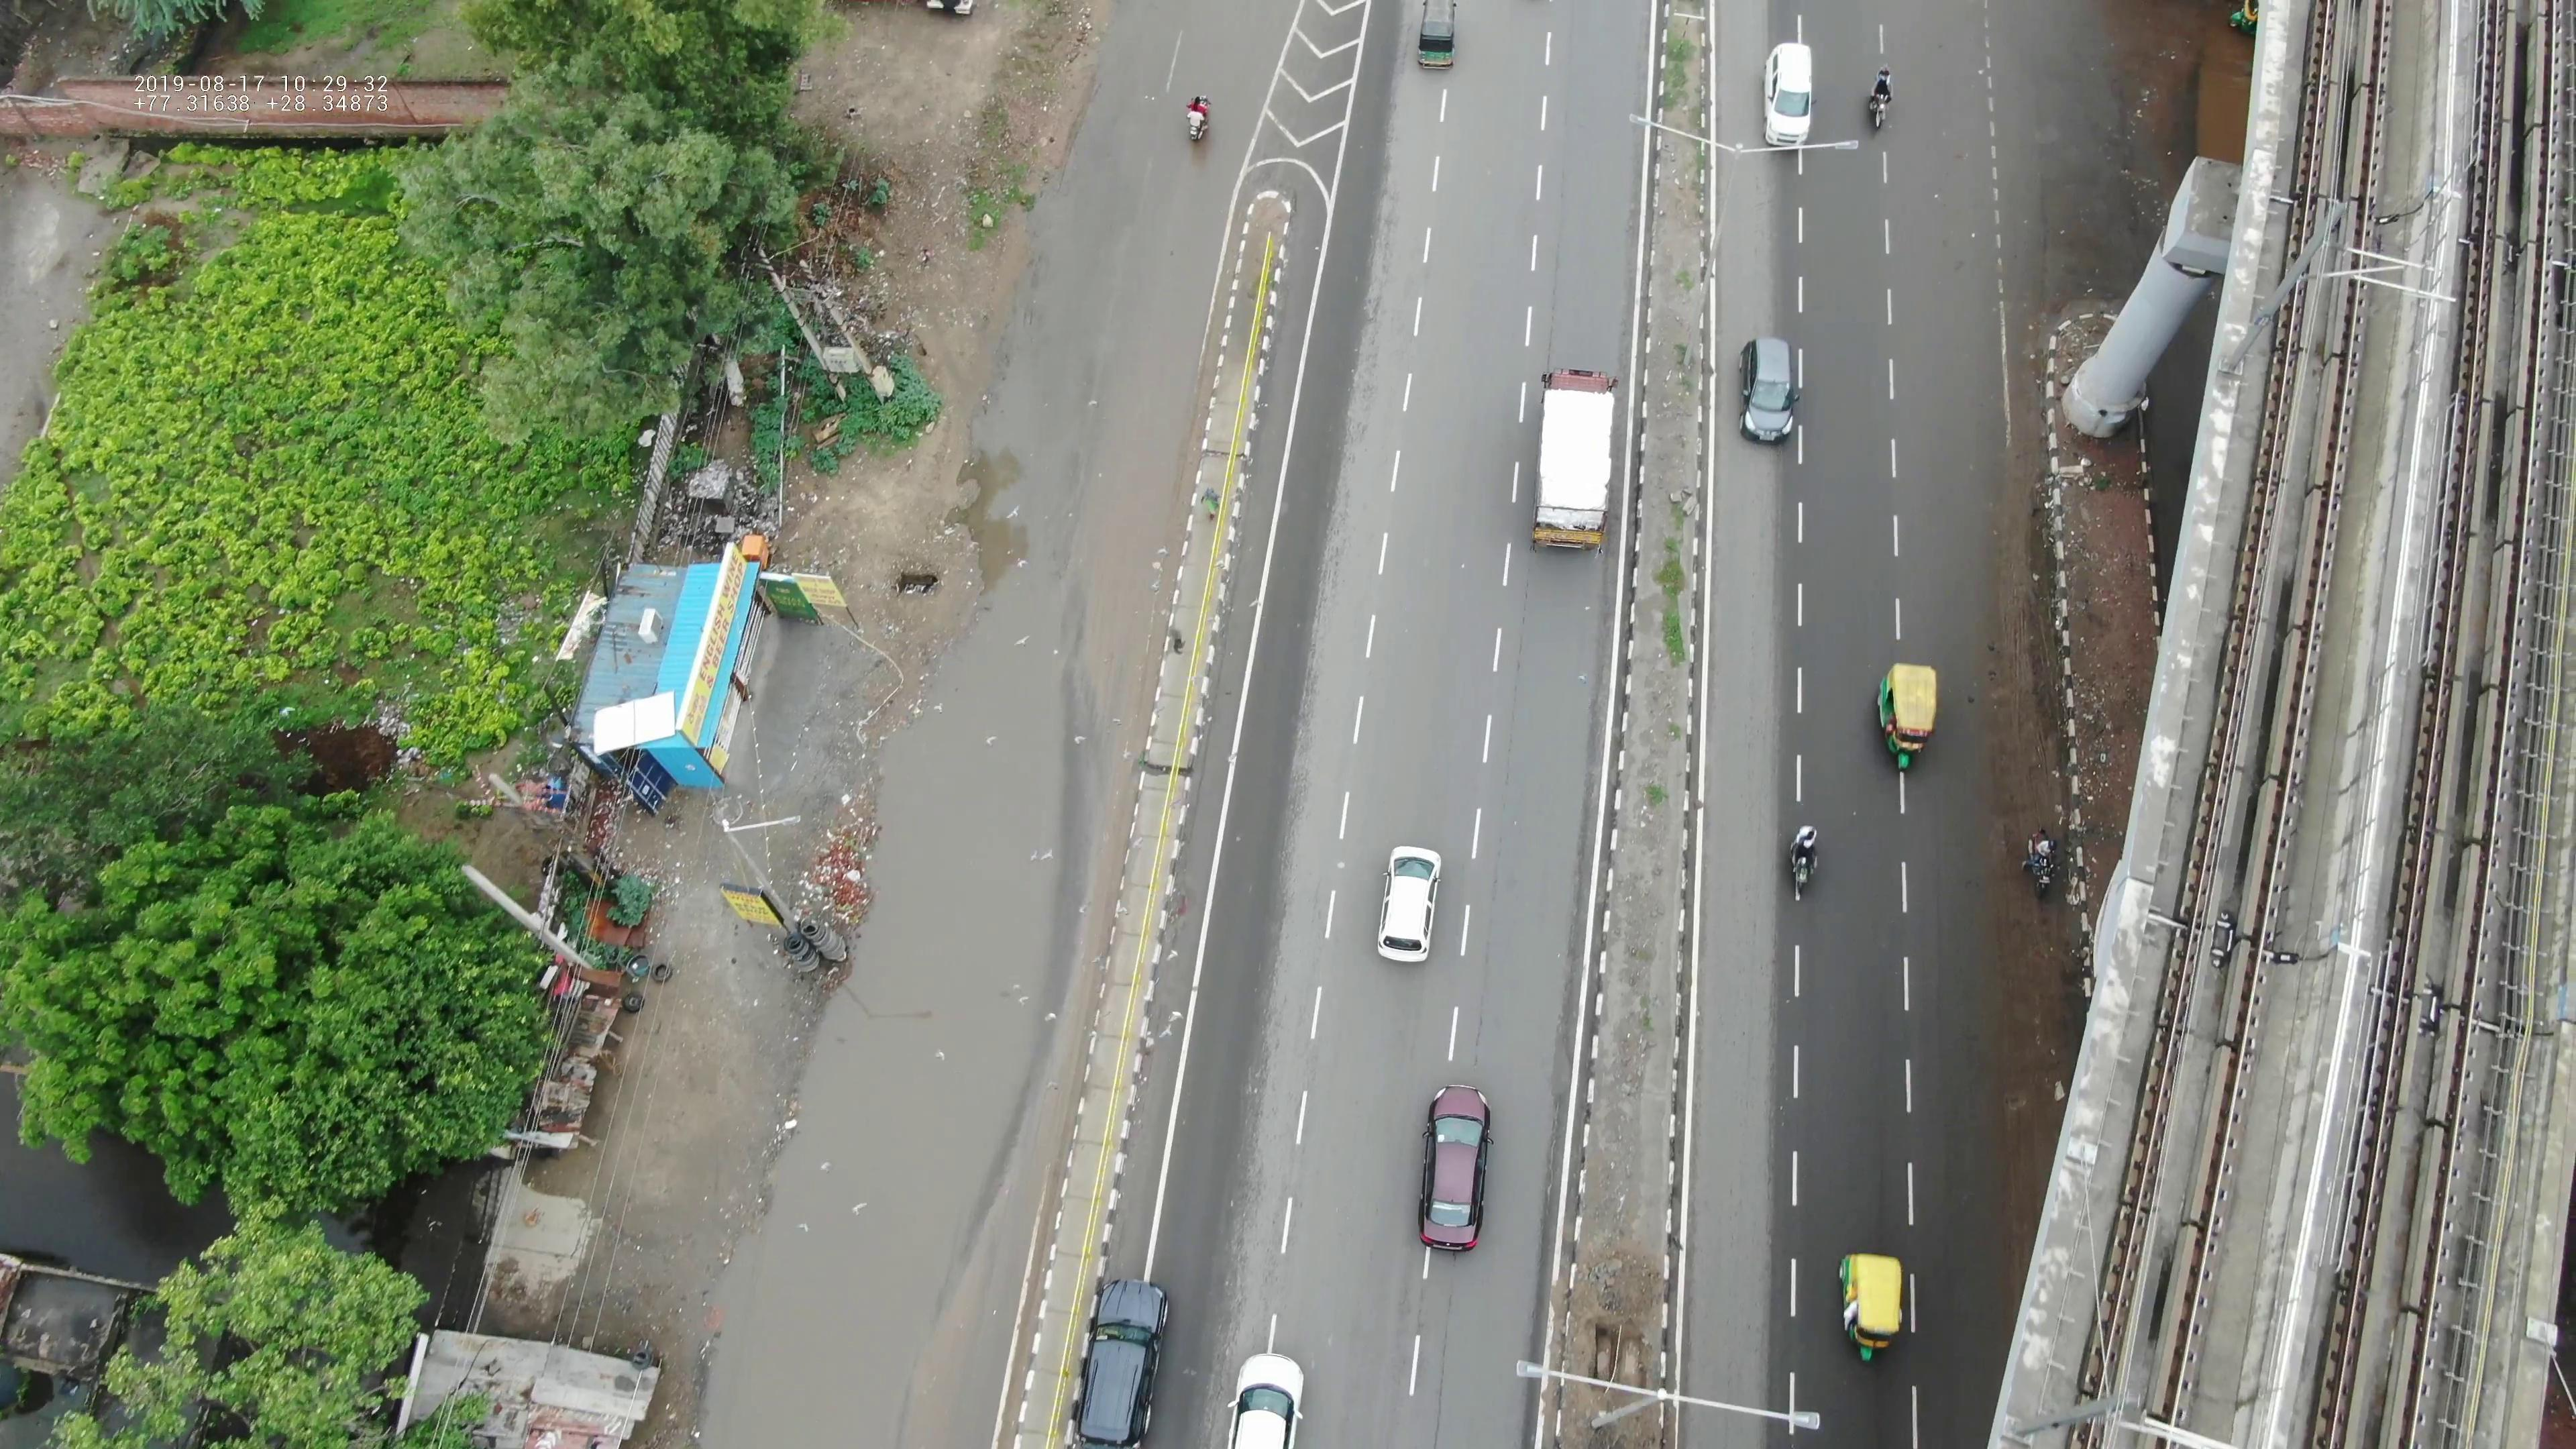Muddy_road: (1985, 582, 2063, 955)
Waterlogging: (701, 617, 1072, 1428)
